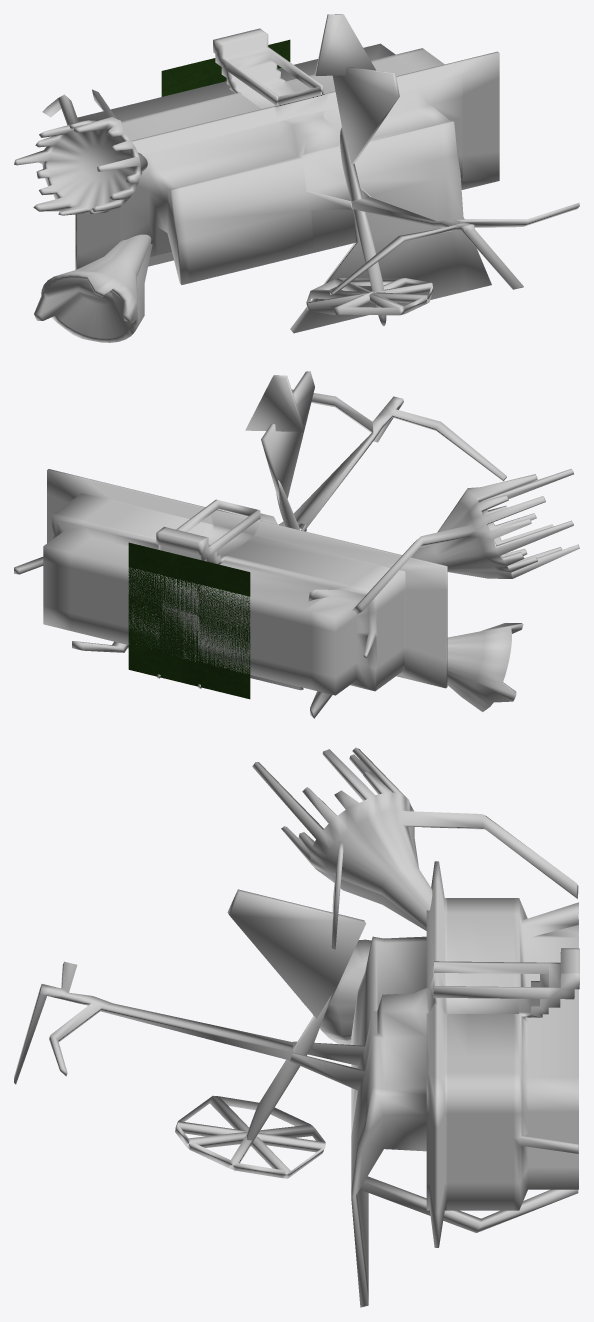
Rendered from haus1_dim30x10.fbx.
3 renders of one model, top to bottom at view 1: azimuth 30°, elevation 25°; view 2: azimuth 150°, elevation 25°; view 3: azimuth 270°, elevation 25°, orthographic. The views are drawn at different scales.
Parts seen in each view (by area): view 1: Wohnhaus, Grasplane_1; view 2: Wohnhaus, Grasplane_1; view 3: Wohnhaus.
Boxes of the visible parts, x1=… form: Wohnhaus: x1=14, y1=14, x2=579, y2=342; Grasplane_1: x1=161, y1=39, x2=290, y2=96; Wohnhaus: x1=14, y1=371, x2=579, y2=718; Grasplane_1: x1=128, y1=542, x2=250, y2=699; Wohnhaus: x1=14, y1=747, x2=579, y2=1307.
Bounding box in the file's own units: 40.47 × 23.69 × 32.92.
